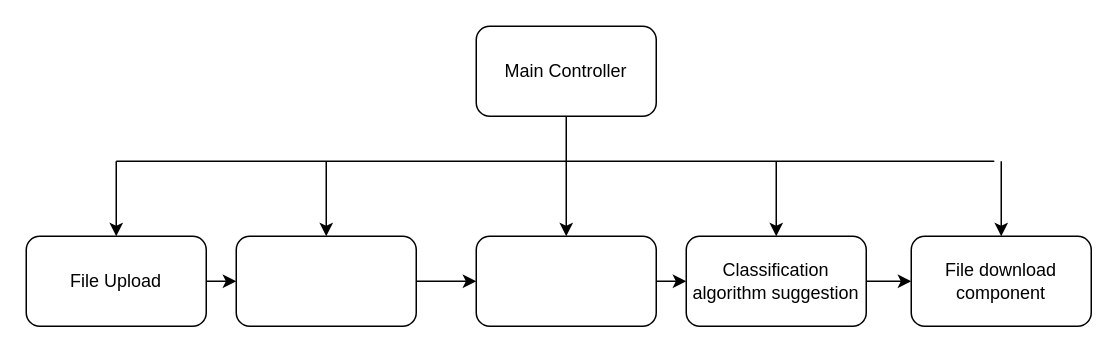
This 1118x353 diagram has some shape labels left out. Here are the shapes that lost their labels. From the top down, the box of each, then its label:
(235, 235, 416, 326): Feature Cleaning Preferences
(475, 235, 656, 326): Dataset cleaning
